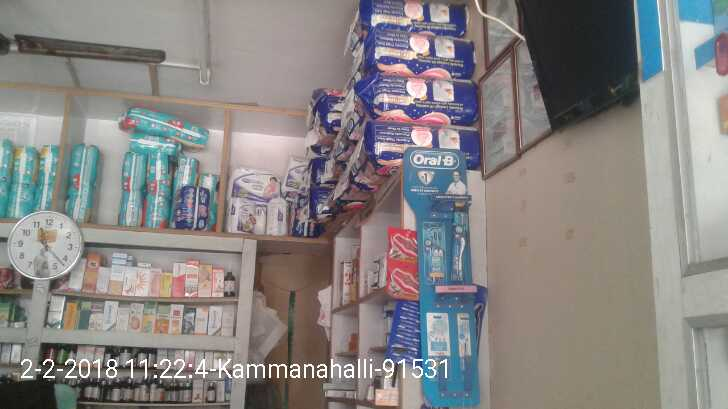pharmacy: (118, 107, 220, 145), (64, 137, 98, 227), (8, 139, 32, 221), (35, 144, 58, 229), (420, 225, 451, 284), (448, 207, 472, 283), (148, 154, 172, 227), (177, 157, 198, 228), (123, 145, 138, 230), (195, 174, 218, 229)
